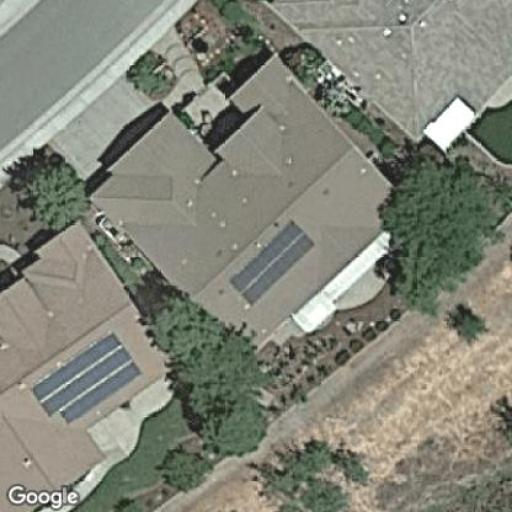solar-panel: (32, 330, 144, 426), (226, 219, 318, 307)
